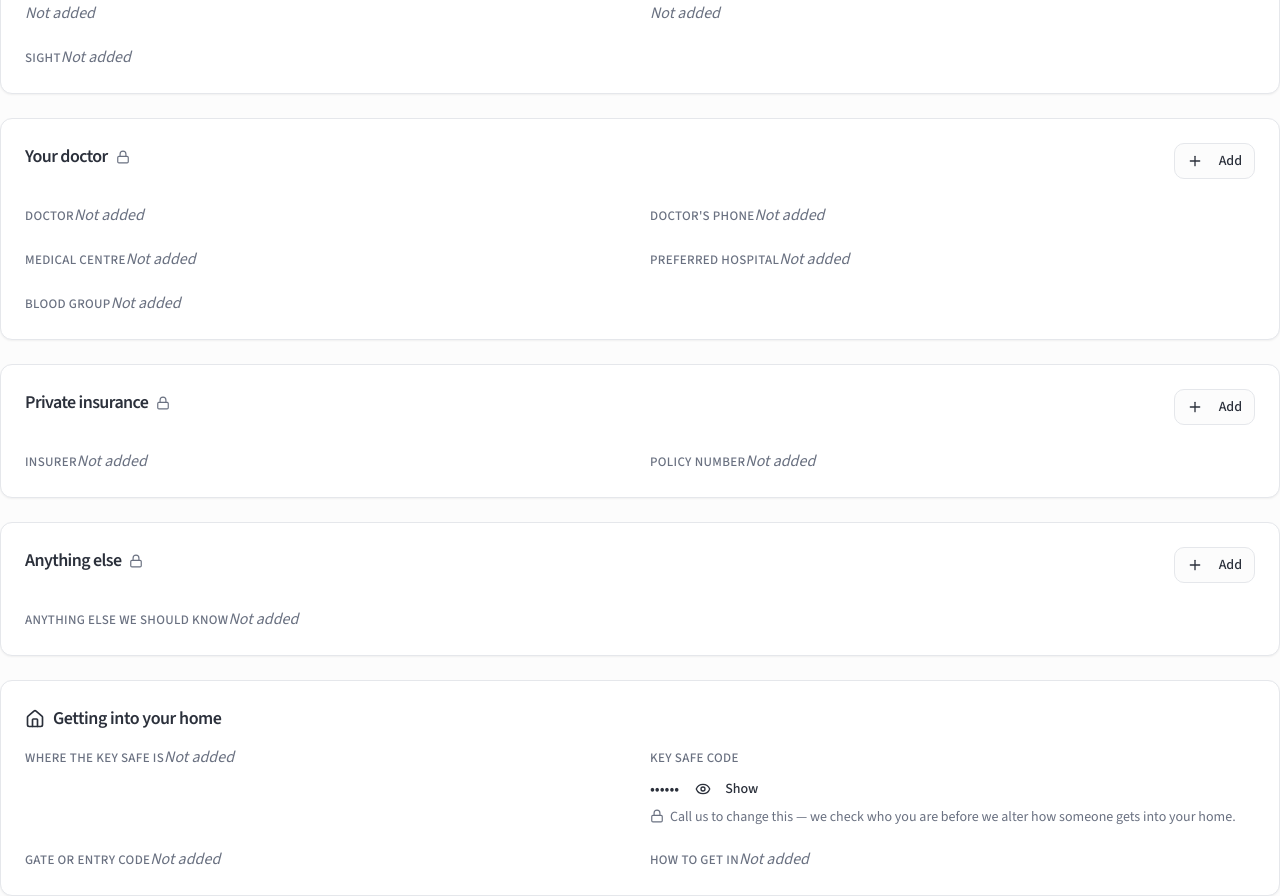
getting into your home — read-only, masked, with a reason › reveals a code only when Show is pressed, and hides it again
(page scrolled)
What coordinates should you click on to do the following:
click the button with test id "reveal-secret"
I would click on:
 (727, 789)
Its box is x1=687 y1=775 x2=766 y2=803.
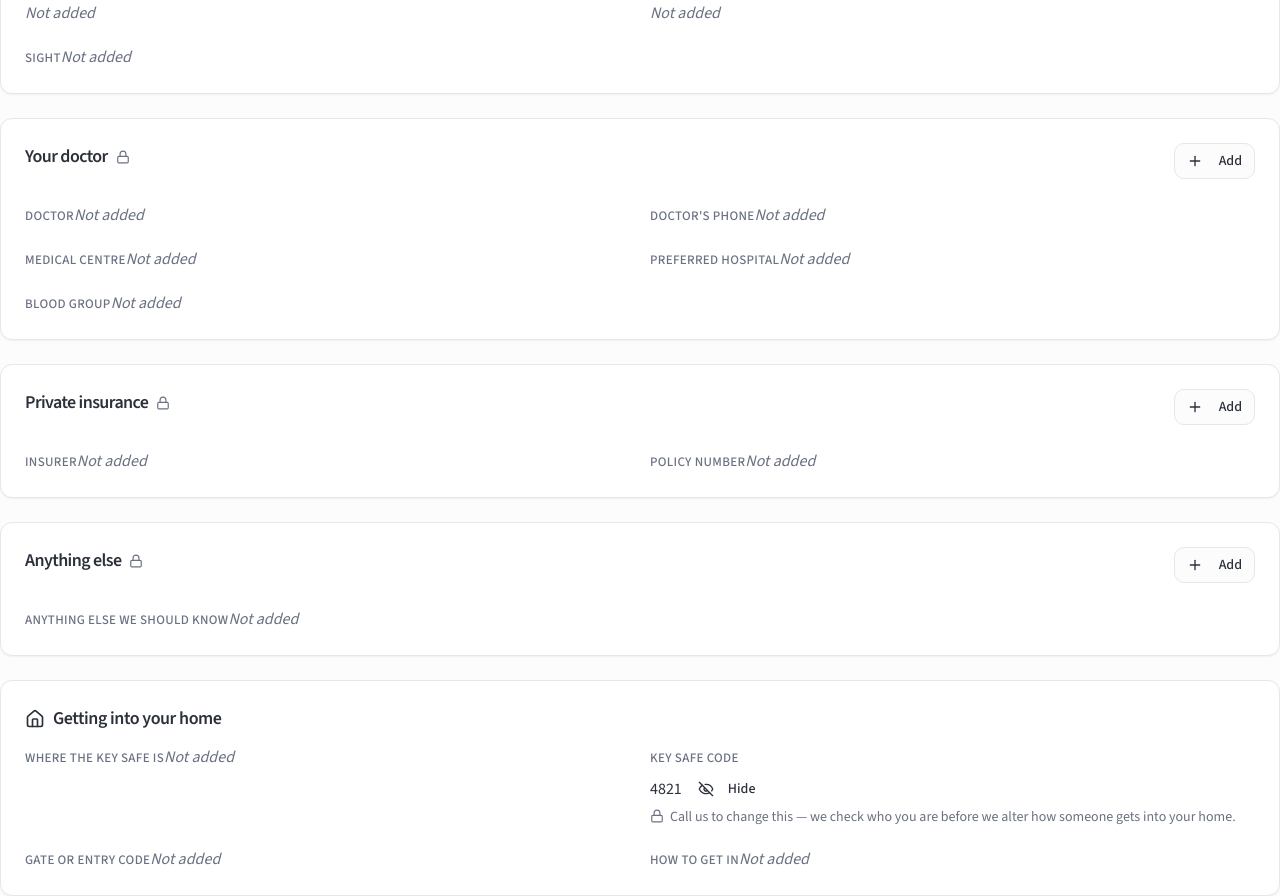
expect the text "4821" is shown: met, box x1=650 y1=777 x2=682 y2=801
What coordinates should you click on to do the following:
click the button with test id "reveal-secret"
I would click on:
 (727, 789)
Its box is x1=690 y1=775 x2=763 y2=803.
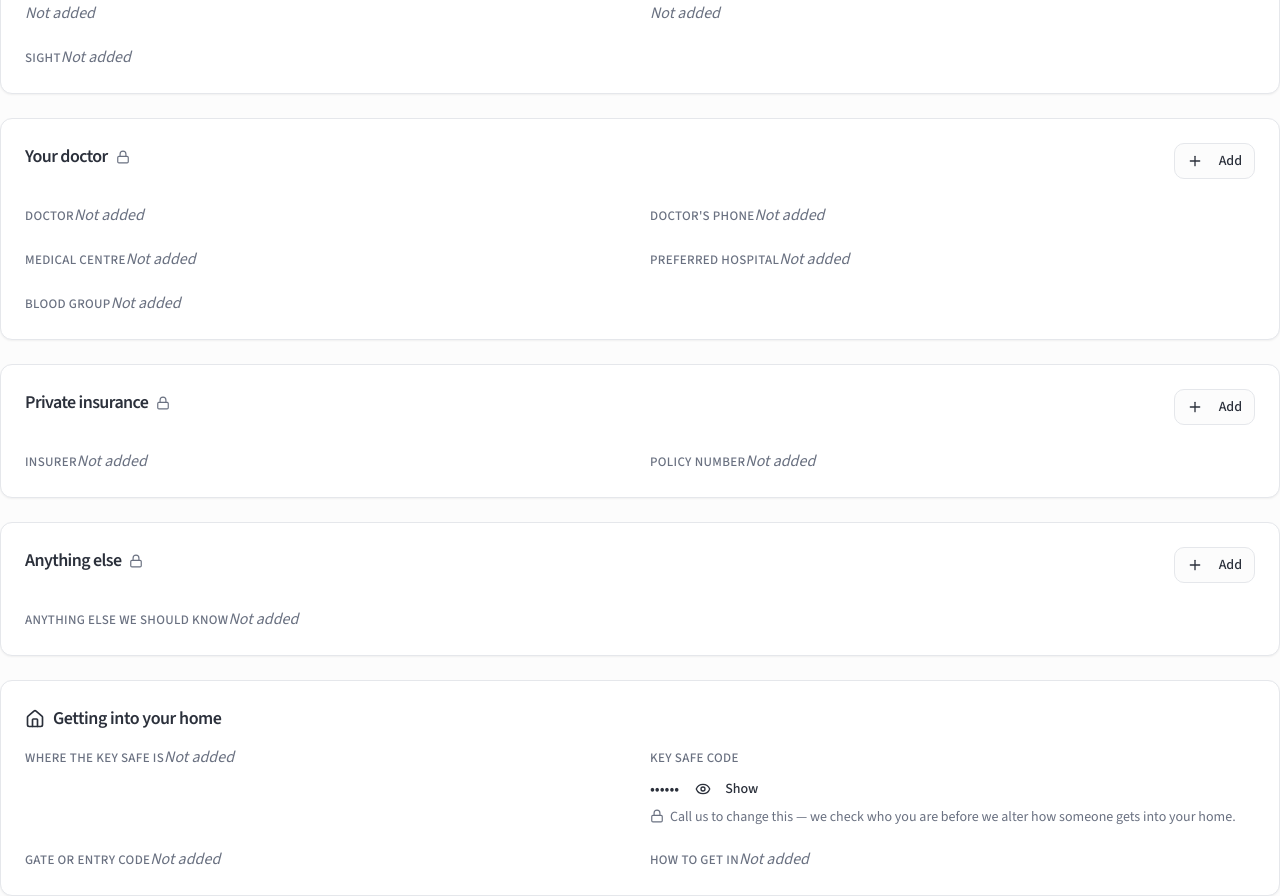
expect the text "4821" is gone: met
